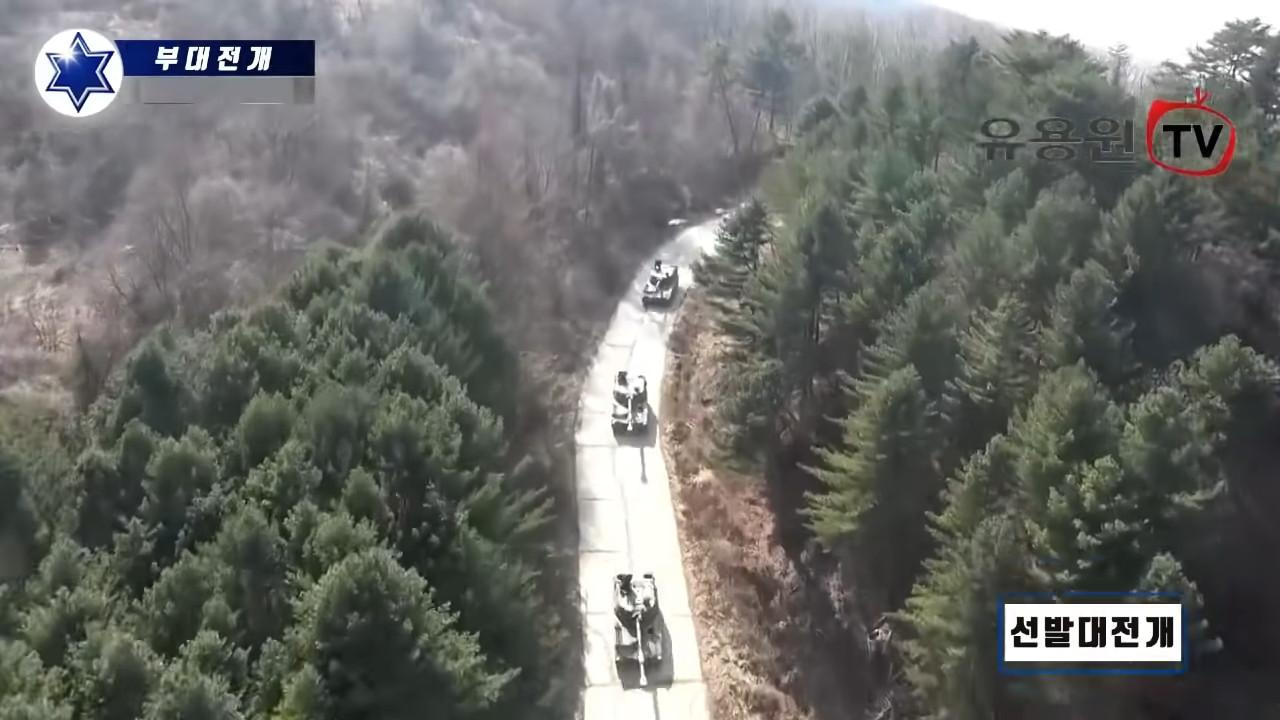tank: (615, 574, 662, 687), (611, 372, 649, 431), (643, 266, 679, 307)
